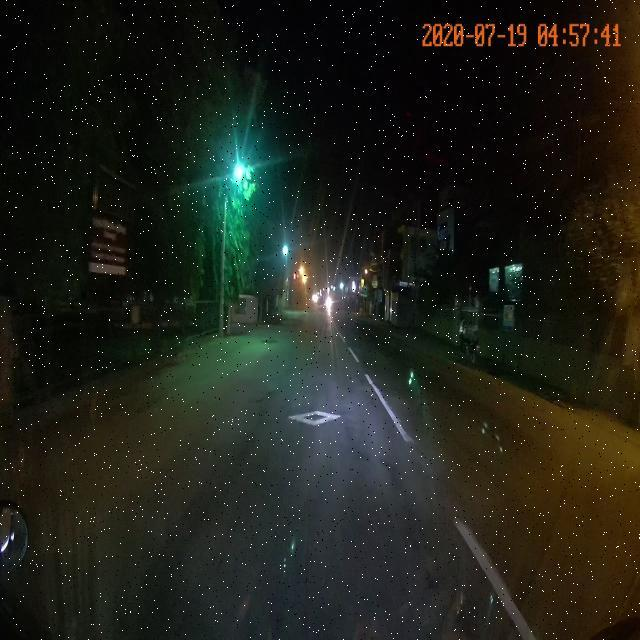diamond: (225, 411, 409, 437)
